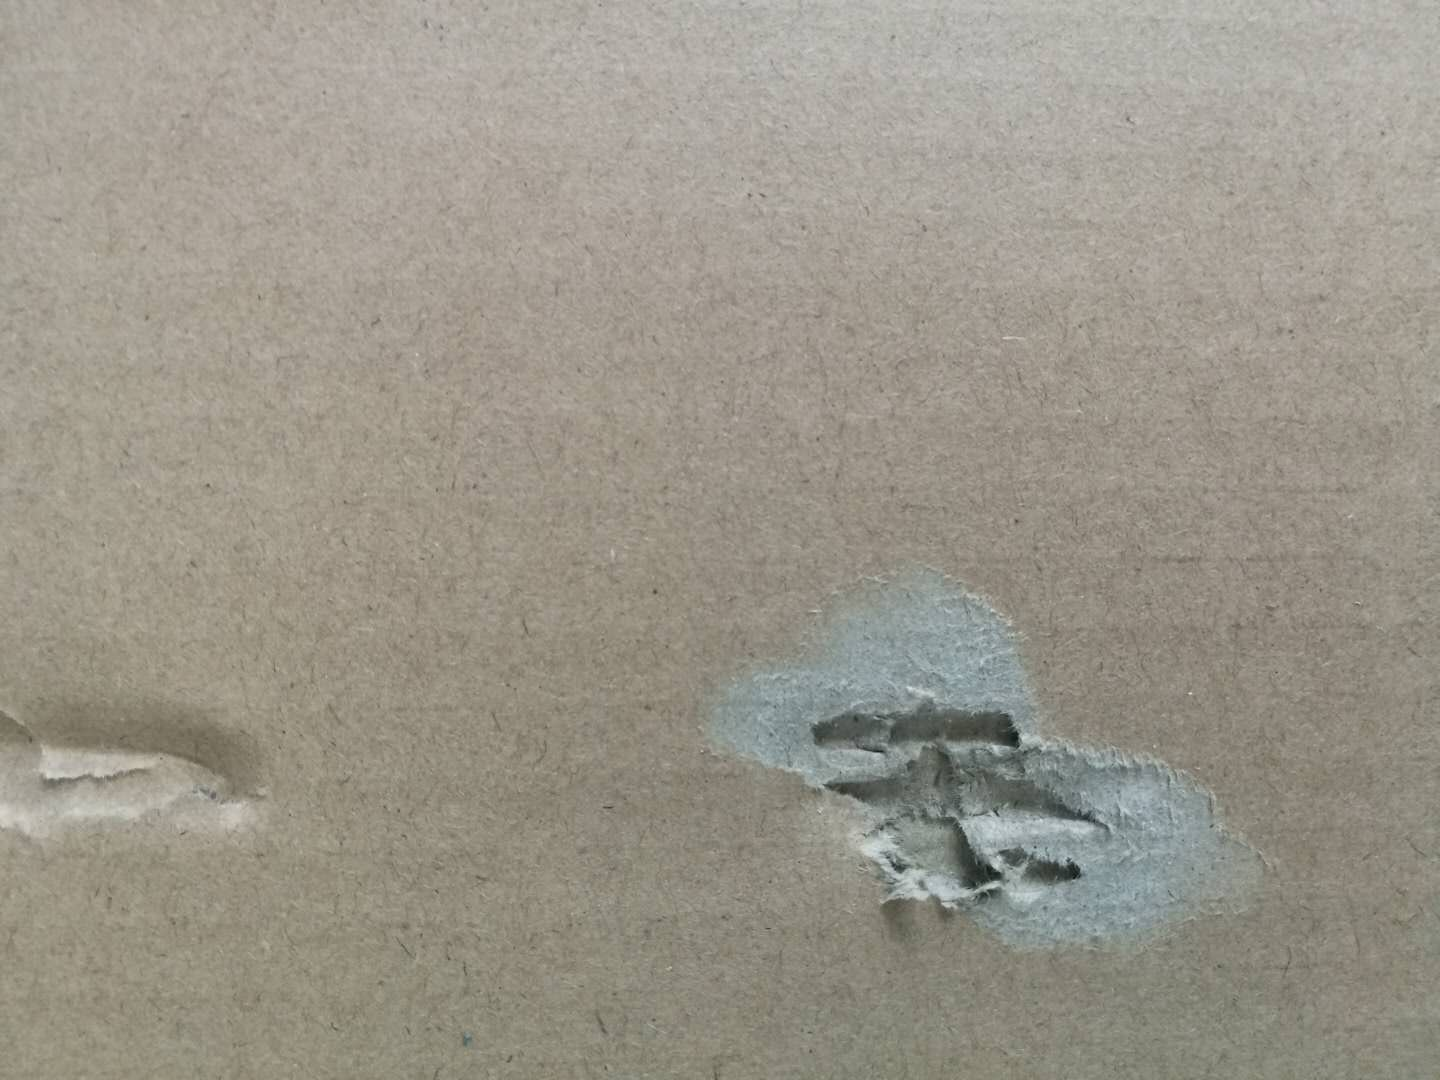defect: (670, 533, 1322, 984), (1, 663, 300, 884)
